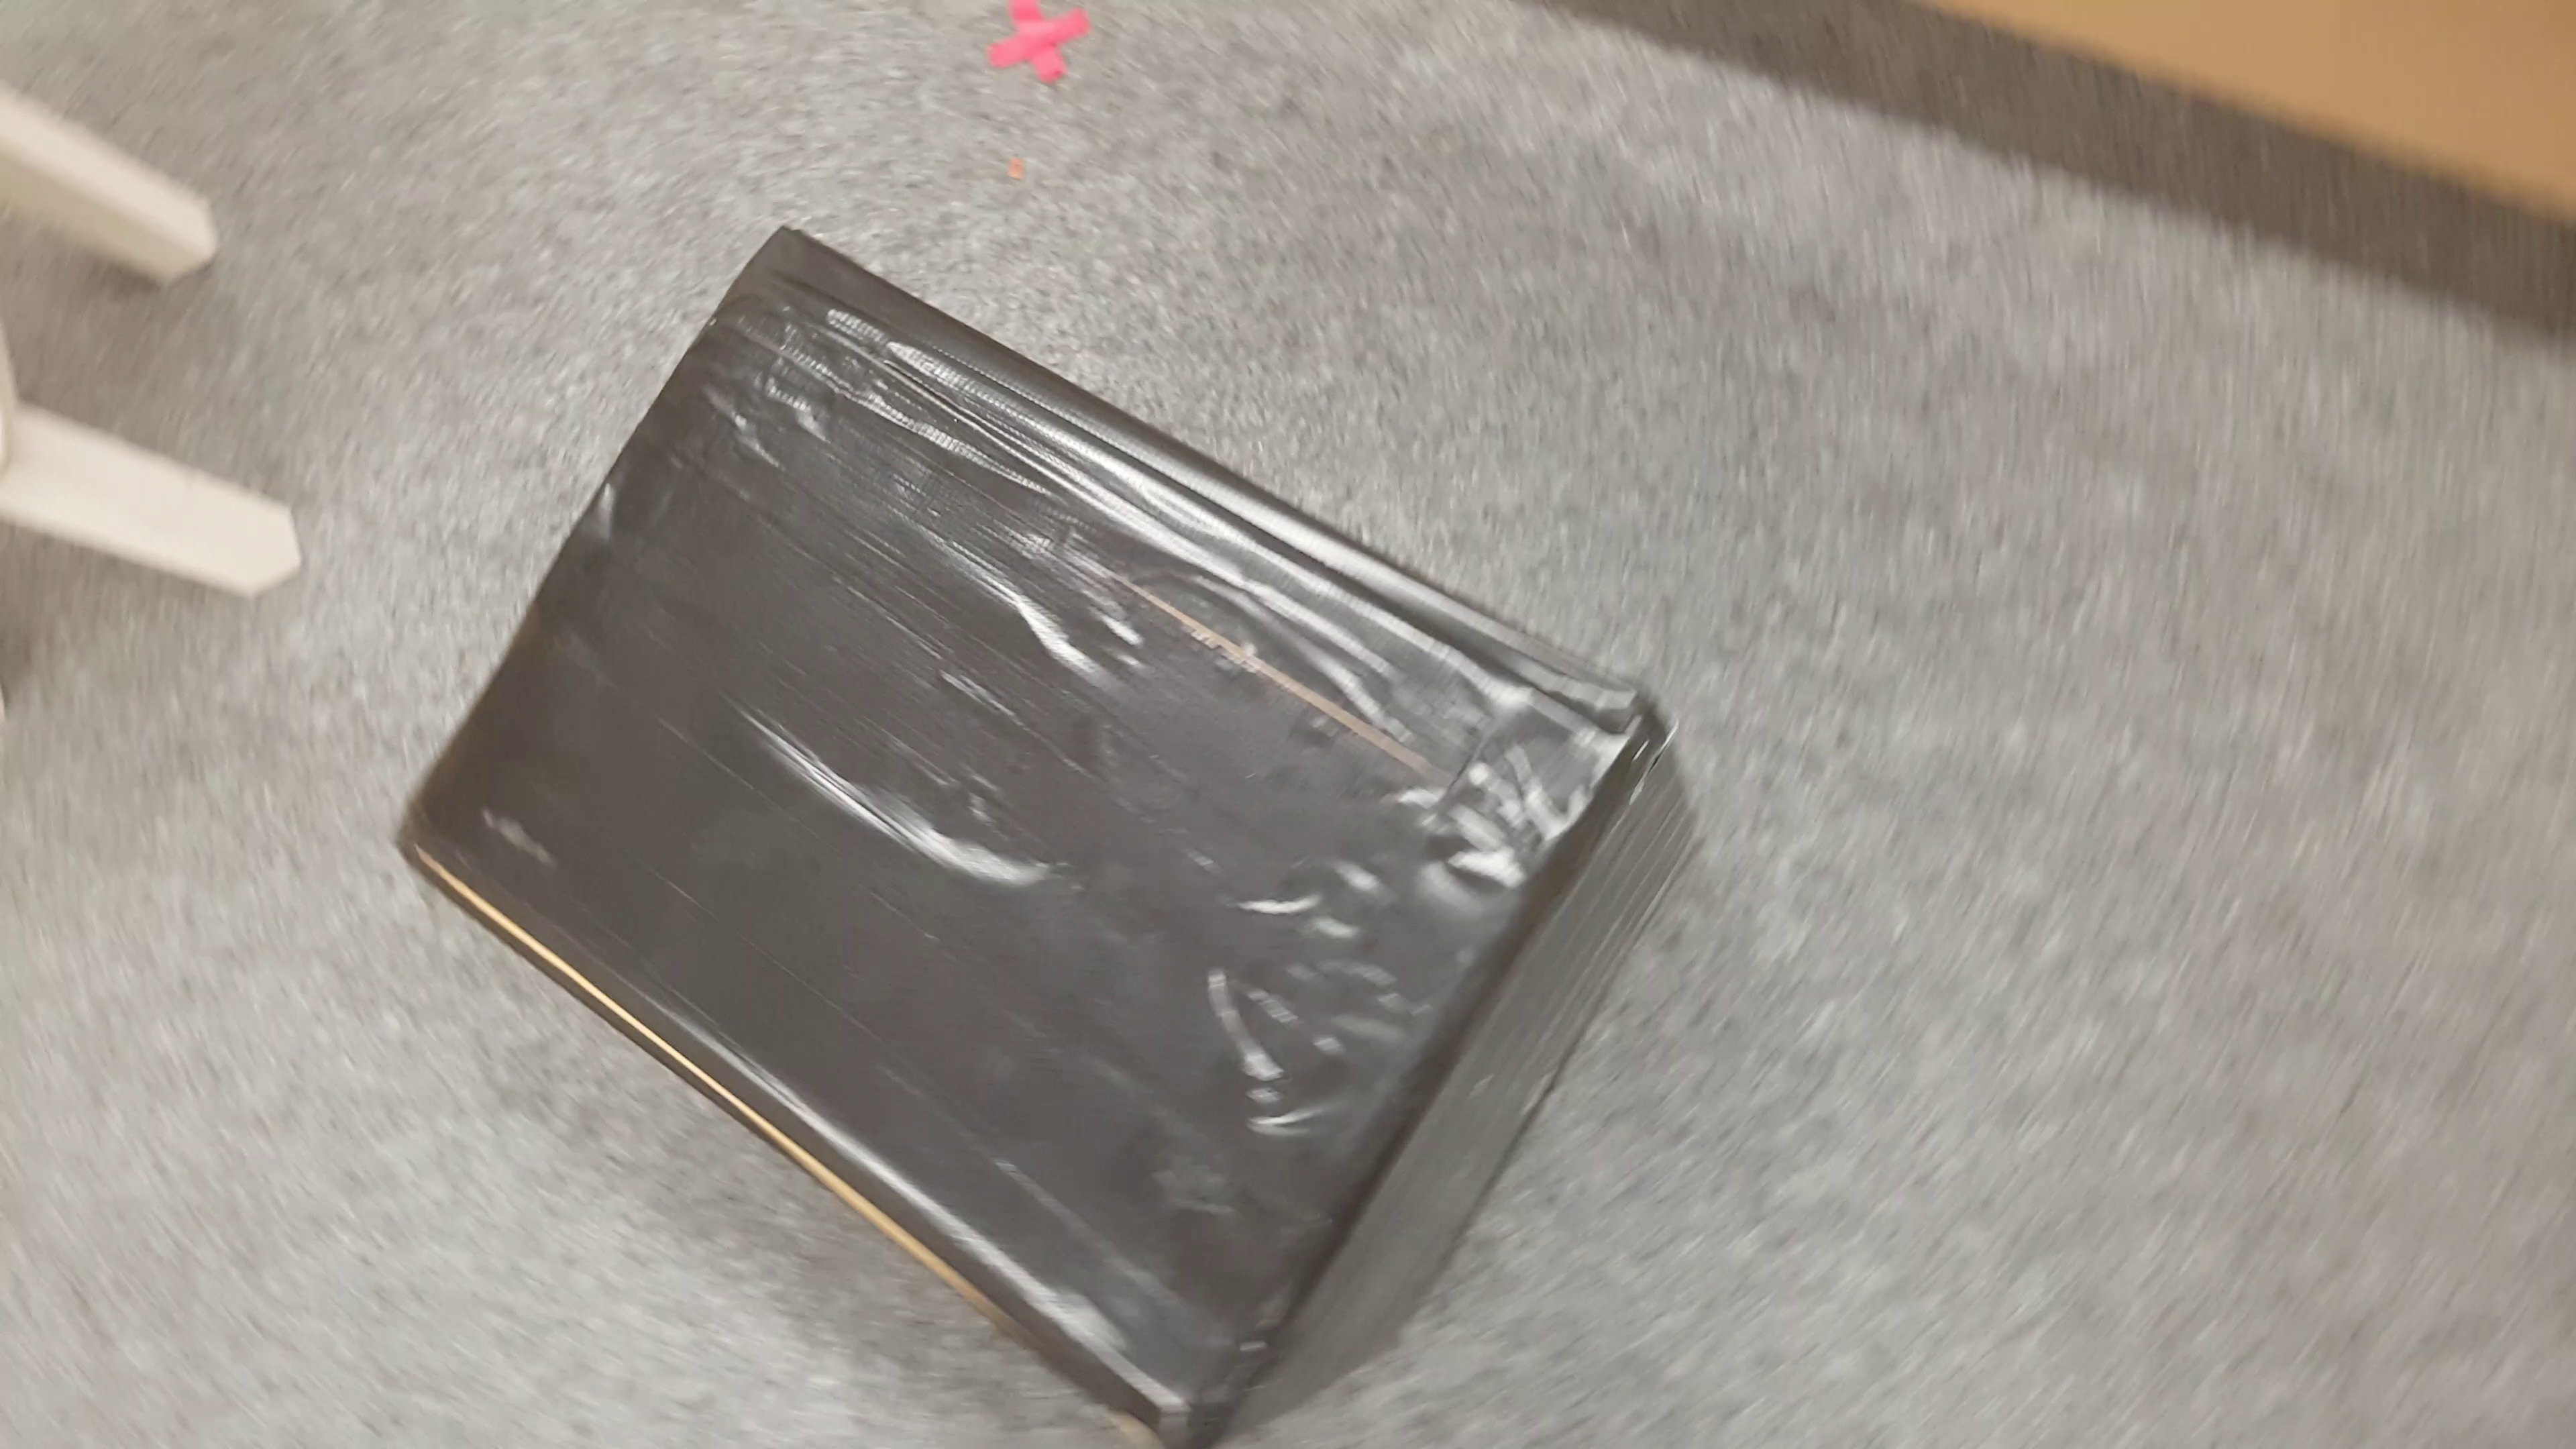push: (395, 226, 1698, 1445)
